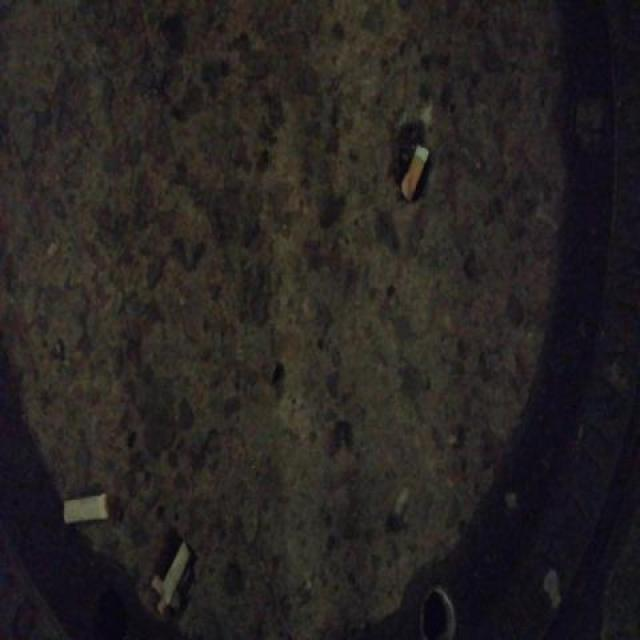non-organic waste: (57, 486, 116, 533), (160, 536, 193, 608), (399, 140, 432, 212)
